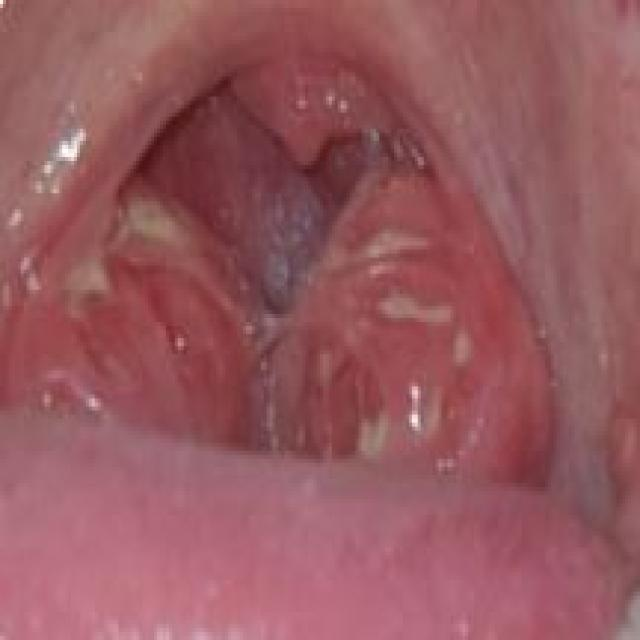pharyngitis: (268, 171, 573, 495), (1, 177, 263, 450)
